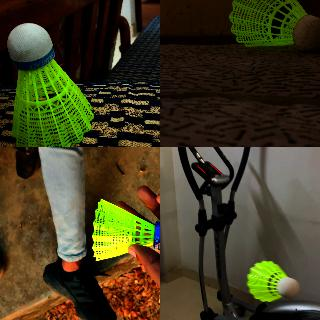shuttlecock: (6, 22, 95, 146), (229, 0, 319, 50), (90, 198, 159, 260), (246, 260, 298, 300)
